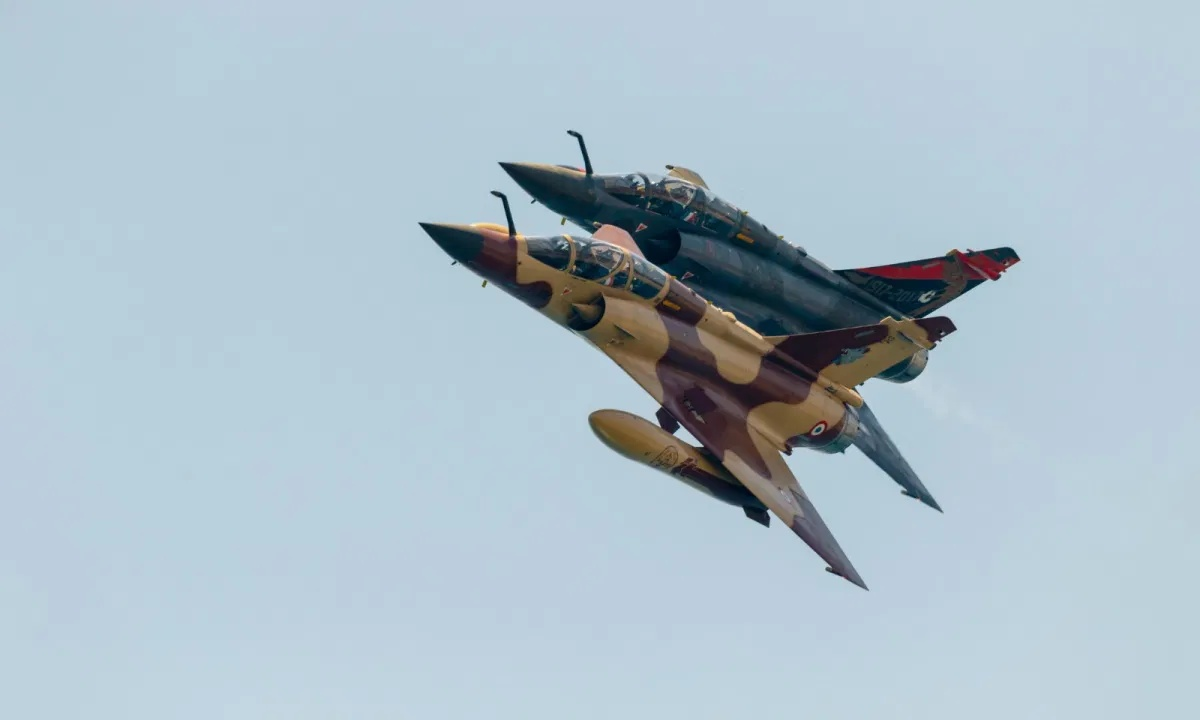Mirage2000: (417, 190, 958, 591), (497, 130, 1020, 513)
